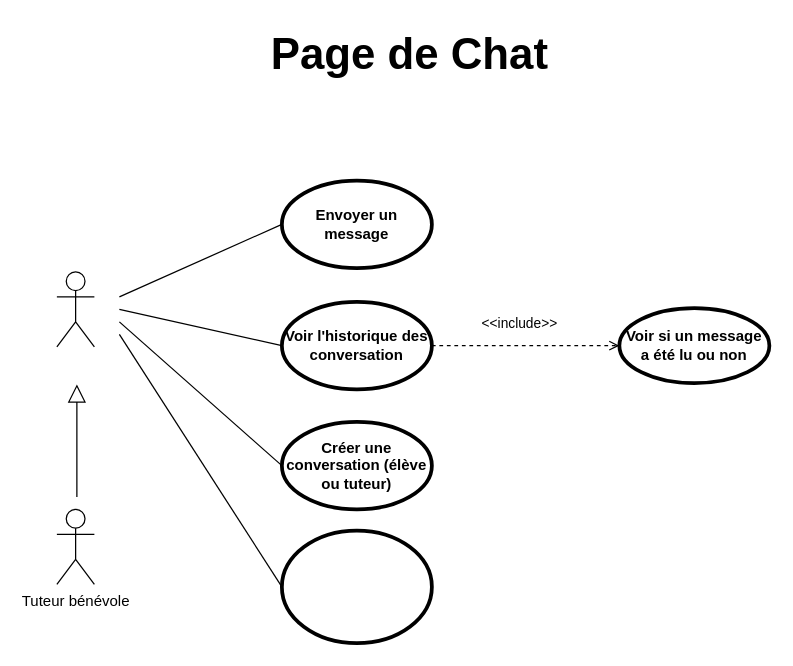
The diagram is 793 pixels wide and 666 high, and some of its shapes have lost their labels. The centre of each missing label's shape, as x and y in pixels:
"Elève" goes at point 75,309.
"Supprimer une conversation (historique et contact)" goes at point 356,586.
